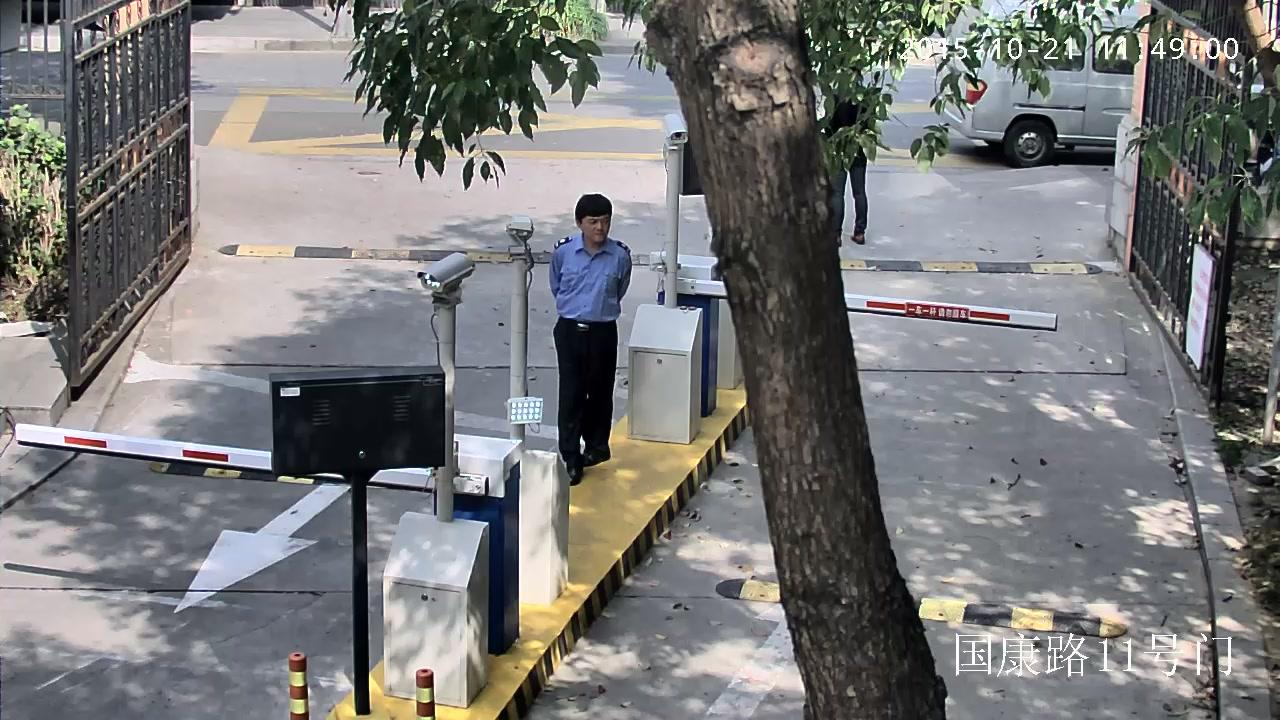face: (582, 216, 609, 241)
